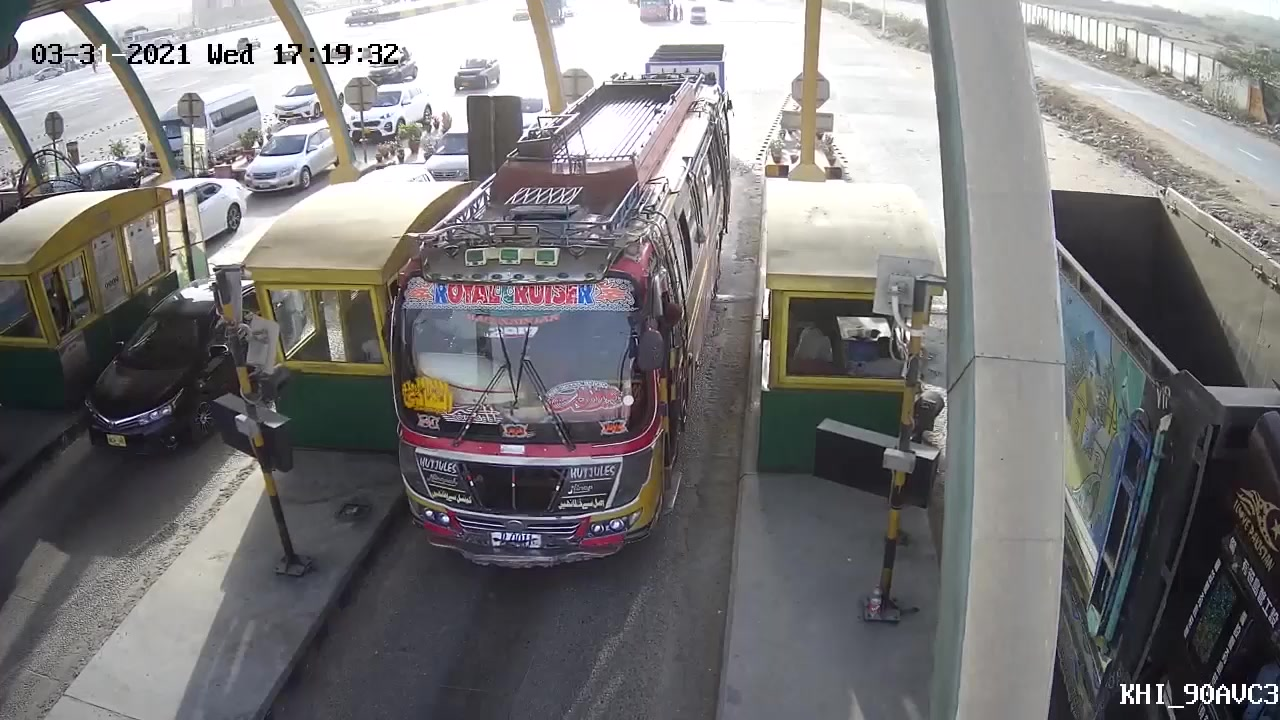F4: (377, 63, 747, 568)
